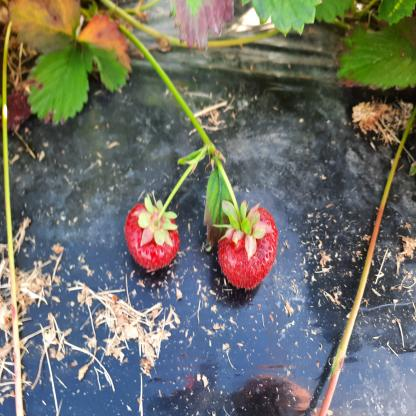ripe: (218, 210, 280, 289), (128, 205, 175, 270)
